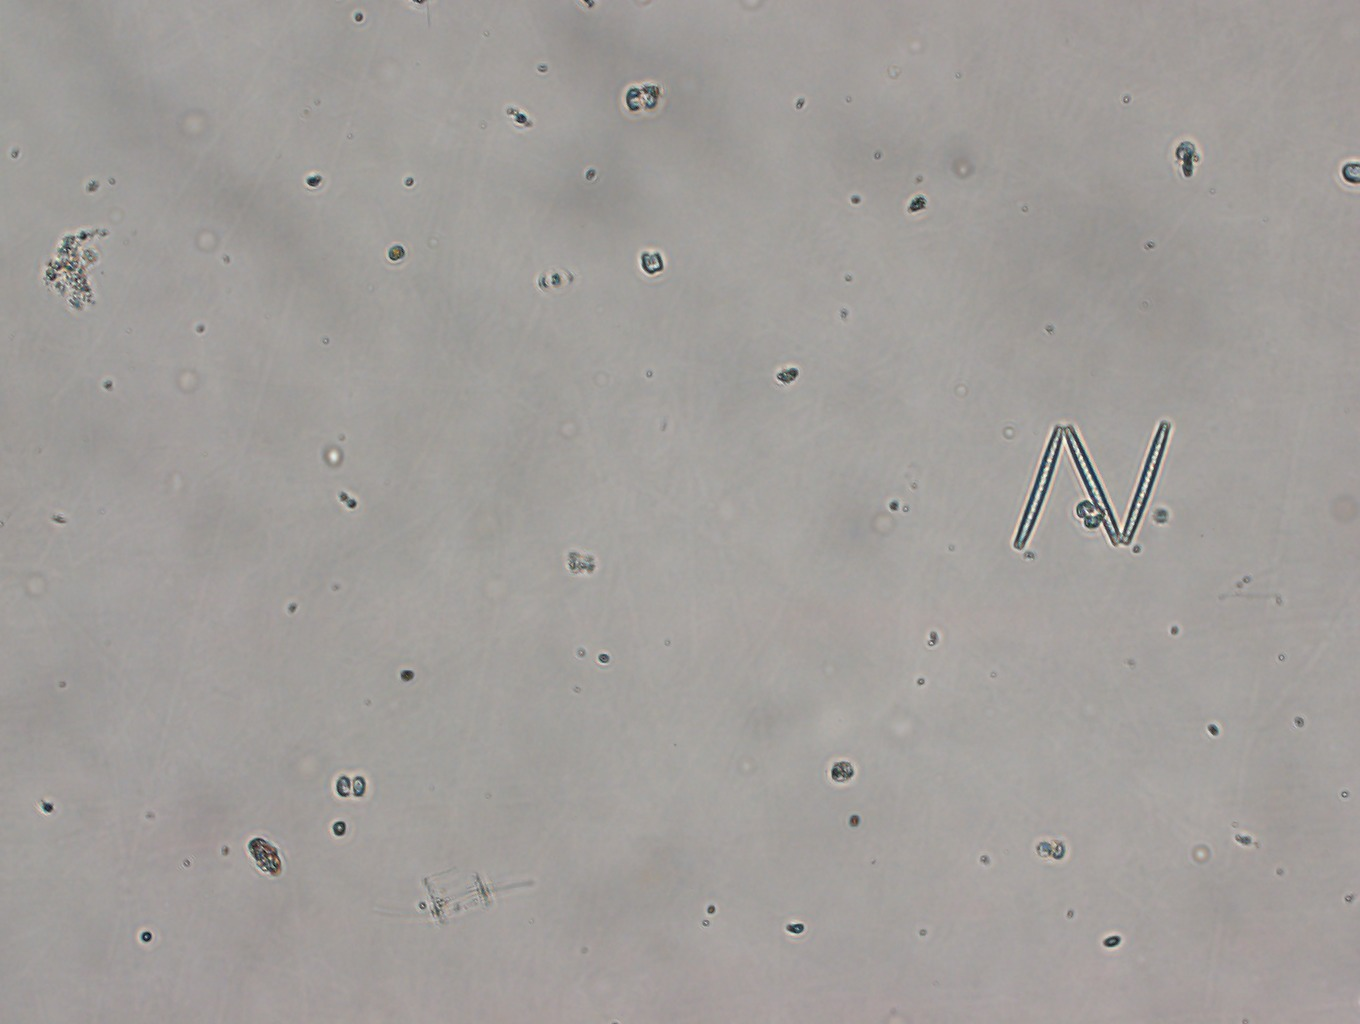thalassionema nitzschioides: (1011, 419, 1171, 552)
